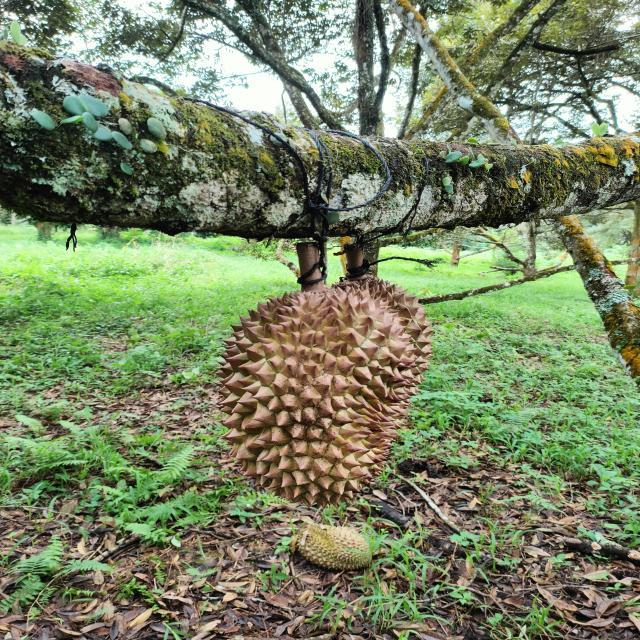mature: (220, 275, 432, 505)
